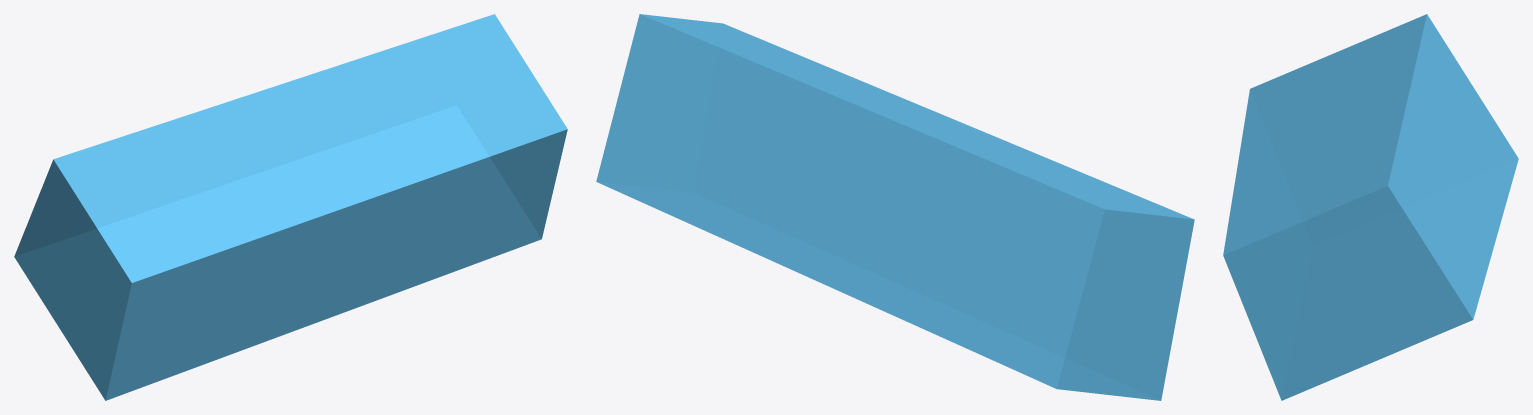
The model's file is Event_420604493_HErechit_29.fbx.
3 views of the same model, side by side, from view 1: azimuth 30°, elevation 25°; view 2: azimuth 150°, elevation 25°; view 3: azimuth 270°, elevation 25° (orthographic). The views are drawn at different scales.
Parts seen in each view (by area): view 1: Model; view 2: Model; view 3: Model.
Boxes of the visible parts, x1,y1,x2,y2 form: Model: [14, 14, 567, 400]; Model: [596, 14, 1194, 400]; Model: [1223, 14, 1518, 400].
Size of the model in its own units: 0.7998 by 0.4677 by 0.4283.
